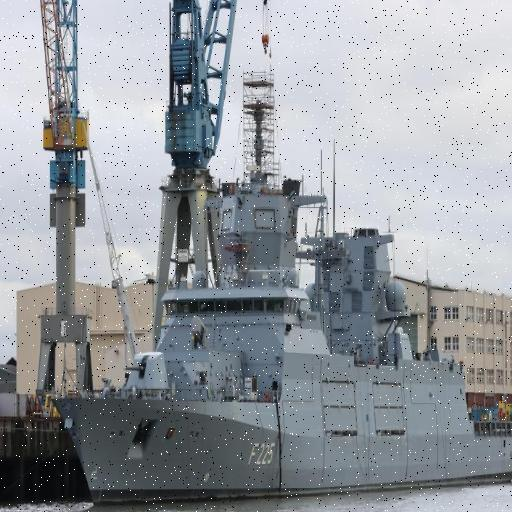Fragata: (44, 70, 512, 512)
